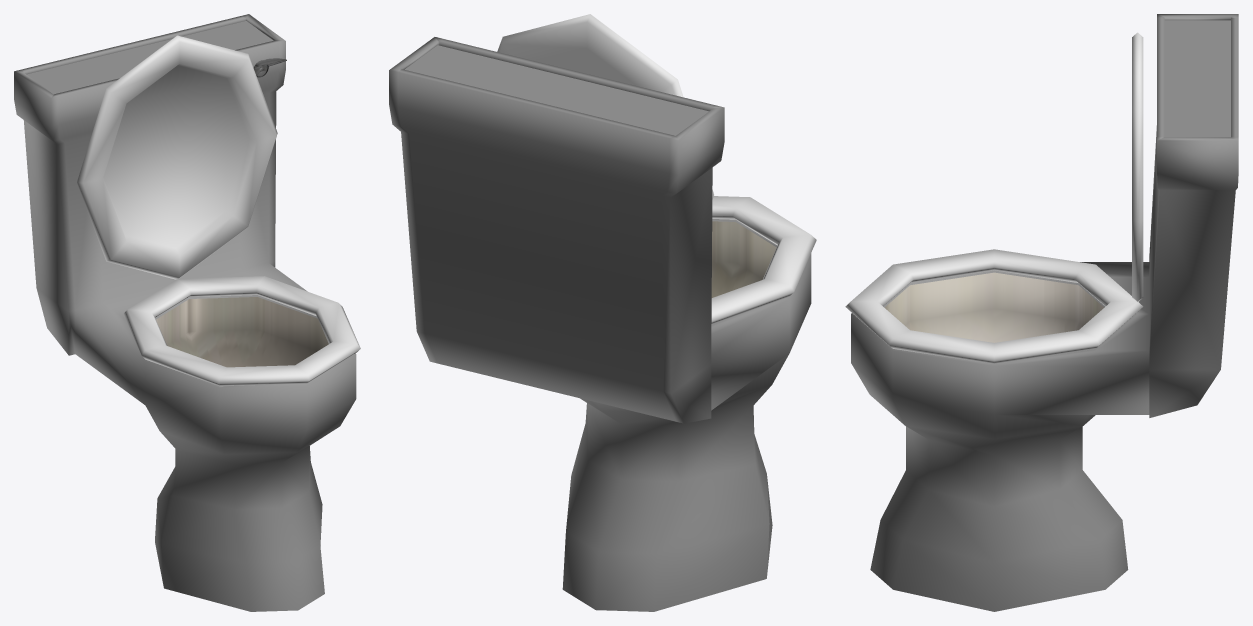
Rendered from toilet.FBX.
3 renders of one model, left to right at view 1: azimuth 30°, elevation 25°; view 2: azimuth 150°, elevation 25°; view 3: azimuth 270°, elevation 25°, orthographic. The views are drawn at different scales.
Visible parts, largest first — view 1: toilet, toilet_cover, toilet_seat; view 2: toilet, toilet_cover, toilet_seat; view 3: toilet, toilet_seat, toilet_cover.
Boxes of the visible parts, x1,y1,x2,y2 form: toilet: (14, 14, 356, 611); toilet_cover: (77, 35, 277, 279); toilet_seat: (123, 276, 360, 386); toilet: (389, 37, 811, 611); toilet_cover: (497, 14, 713, 199); toilet_seat: (711, 196, 816, 324); toilet: (851, 14, 1238, 611); toilet_seat: (845, 249, 1143, 363); toilet_cover: (1132, 32, 1143, 302).
Bounding box in the file's own units: 70.19 × 138 × 91.7.
